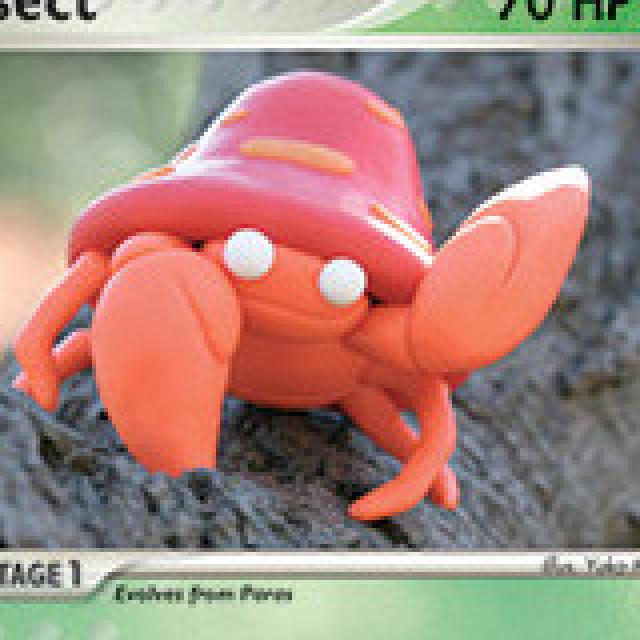Parasect: (66, 81, 560, 501)
